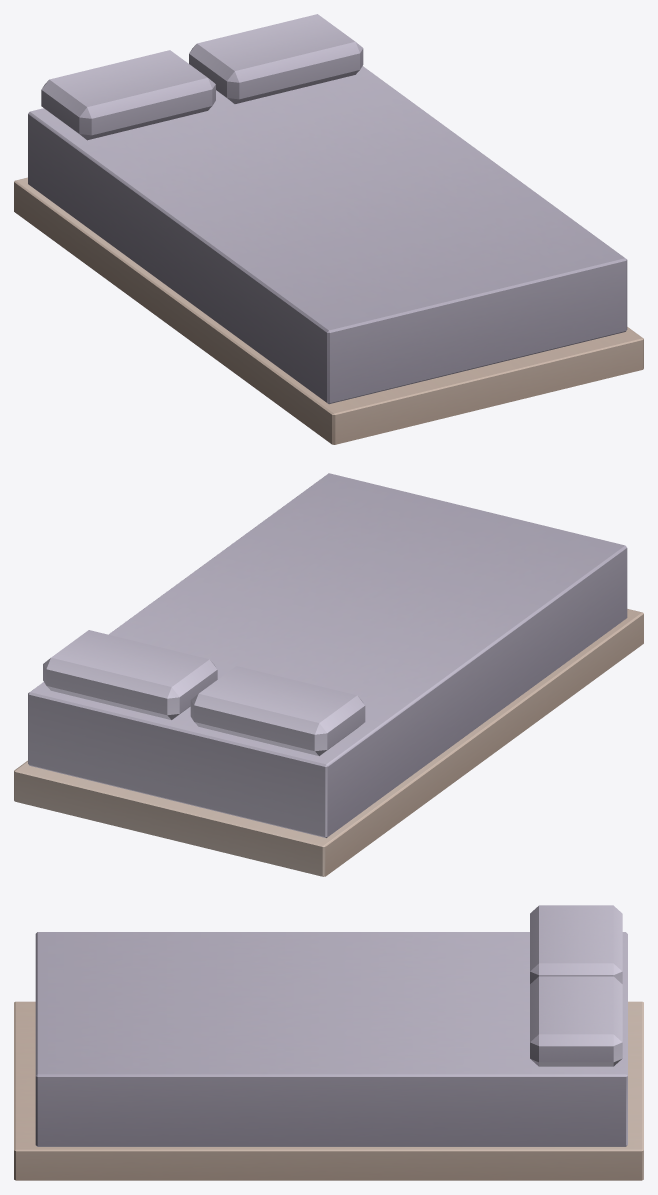
Rendered from Floating Bed.fbx.
3 renders of one model, top to bottom at view 1: azimuth 30°, elevation 25°; view 2: azimuth 150°, elevation 25°; view 3: azimuth 270°, elevation 25°, orthographic.
Visible parts, largest first — view 1: Floating_Bed:pCube1, Floating_Bed:pCube2Frame, Floating_Bed:PillowspCube7, Floating_Bed:pCube8Pillows; view 2: Floating_Bed:pCube1, Floating_Bed:pCube2Frame, Floating_Bed:PillowspCube7, Floating_Bed:pCube8Pillows; view 3: Floating_Bed:pCube1, Floating_Bed:pCube2Frame, Floating_Bed:pCube8Pillows, Floating_Bed:PillowspCube7.
Boxes of the visible parts, <box> form: Floating_Bed:pCube1: <box>28,66,627,404</box>; Floating_Bed:pCube2Frame: <box>14,177,643,444</box>; Floating_Bed:PillowspCube7: <box>41,50,215,140</box>; Floating_Bed:pCube8Pillows: <box>189,14,363,103</box>; Floating_Bed:pCube1: <box>28,473,627,837</box>; Floating_Bed:pCube2Frame: <box>14,609,643,876</box>; Floating_Bed:PillowspCube7: <box>190,666,365,756</box>; Floating_Bed:pCube8Pillows: <box>43,630,217,719</box>; Floating_Bed:pCube1: <box>35,932,627,1146</box>; Floating_Bed:pCube2Frame: <box>14,1001,643,1180</box>; Floating_Bed:pCube8Pillows: <box>530,976,622,1066</box>; Floating_Bed:PillowspCube7: <box>530,905,622,983</box>.
Size of the model in its own units: 112 by 47.54 by 199.
